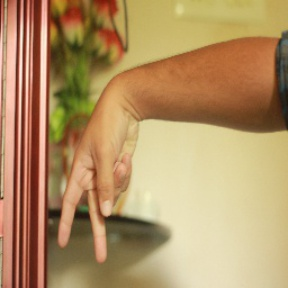Y: (55, 92, 137, 264)
